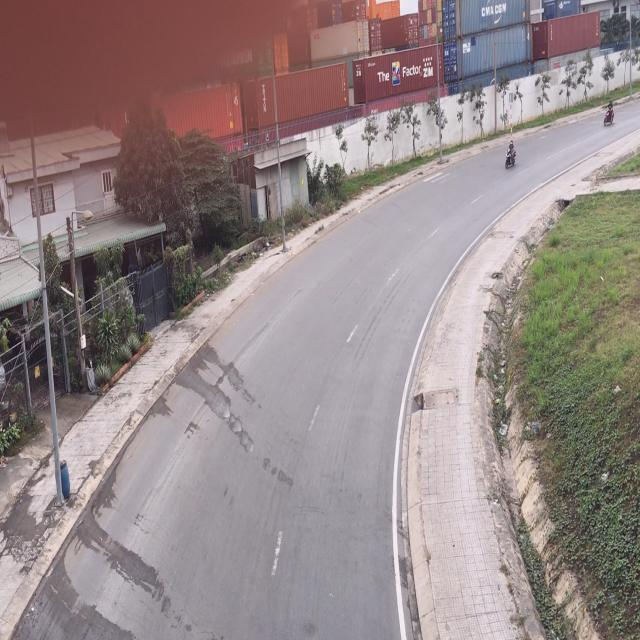motorbike: (503, 137, 515, 170), (602, 98, 614, 128)
